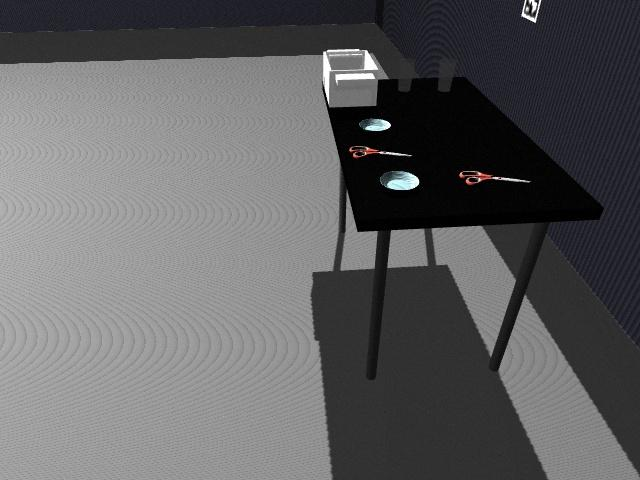cup: (436, 58, 456, 93), (398, 77, 412, 93)
plate: (378, 170, 423, 192), (359, 118, 392, 132)
scissors: (461, 169, 529, 185), (350, 146, 412, 159)
